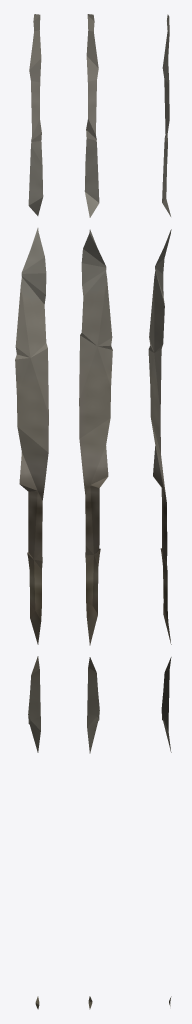
3 renders of one model, left to right at view 1: azimuth 30°, elevation 25°; view 2: azimuth 210°, elevation 25°; view 3: azimuth 330°, elevation 25°, orthographic.
Bounding box in the file's own units: 0.0153 × 0.6335 × 0.0125.
Materials: 1 (1 with a texture image).
